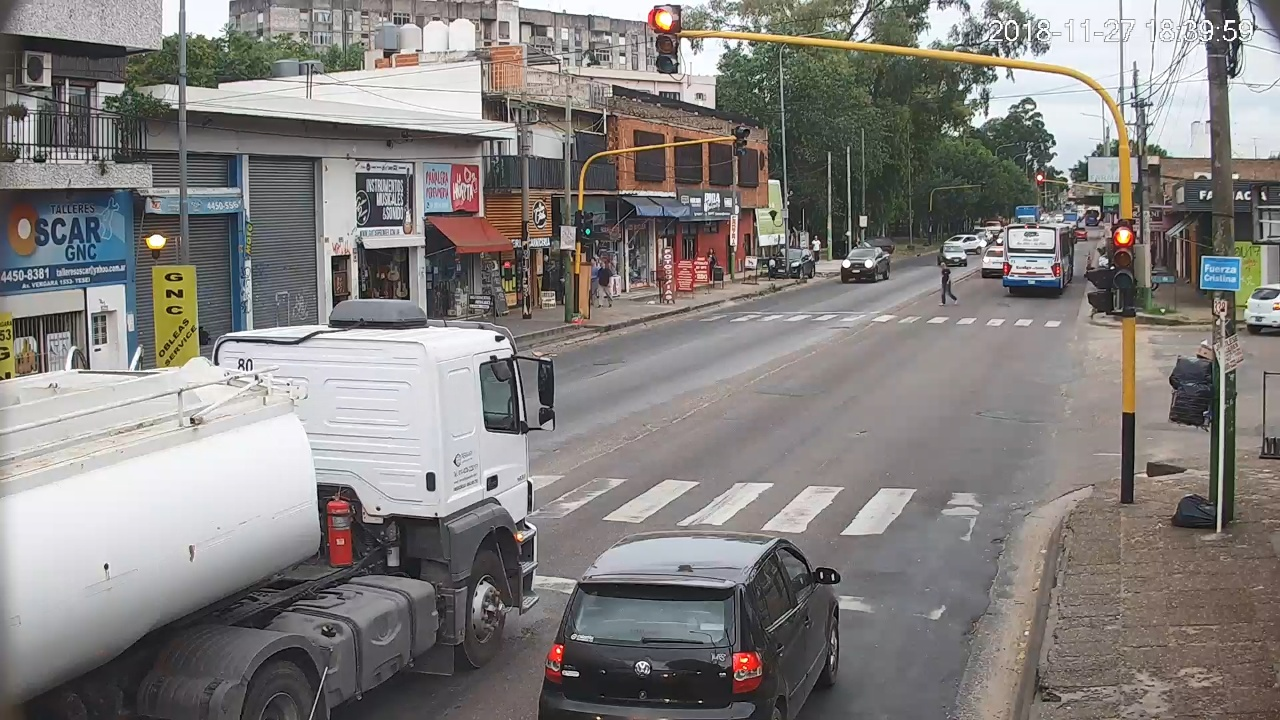car: (540, 530, 840, 720)
traffic light: (655, 5, 680, 73), (1115, 227, 1135, 289)
truck: (1, 299, 555, 720)
